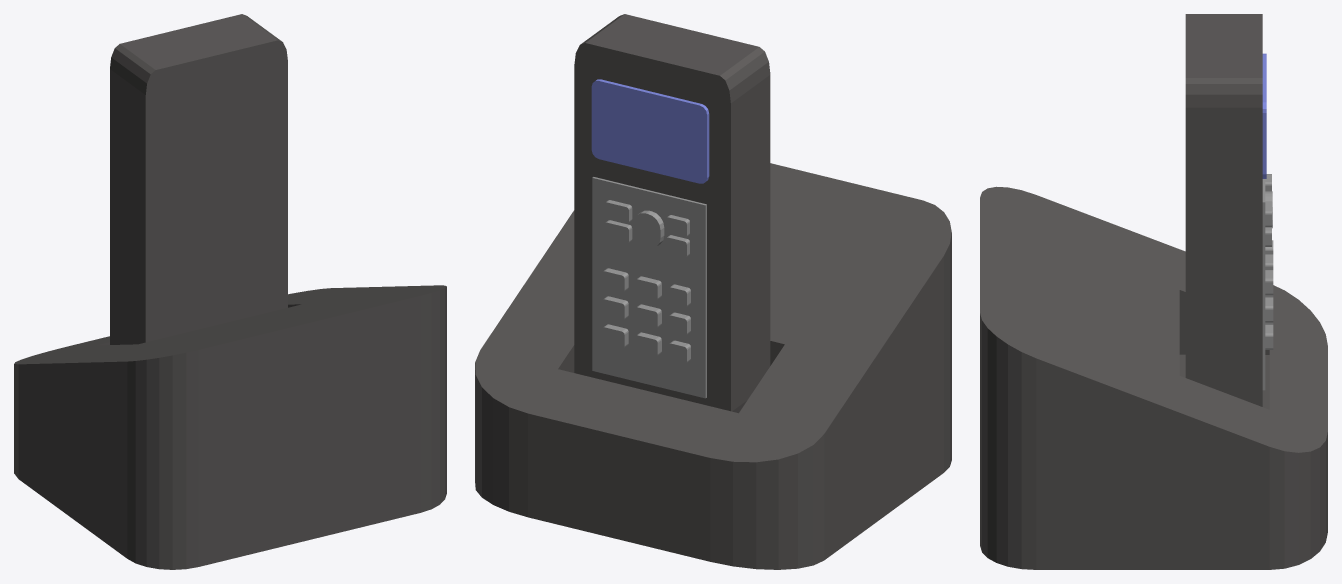
File: Telefono.fbx
3 renders of one model, left to right at view 1: azimuth 30°, elevation 25°; view 2: azimuth 150°, elevation 25°; view 3: azimuth 270°, elevation 25°, orthographic. The views are drawn at different scales.
Visible parts, largest first — view 1: TelefonoBase.002, Telefono.002; view 2: TelefonoBase.002, Telefono.002; view 3: TelefonoBase.002, Telefono.002.
Part boxes in pixels (<box>): TelefonoBase.002: <box>14,285,446,569</box>; Telefono.002: <box>110,14,287,344</box>; TelefonoBase.002: <box>475,163,951,569</box>; Telefono.002: <box>574,14,770,413</box>; TelefonoBase.002: <box>980,186,1327,569</box>; Telefono.002: <box>1185,14,1273,406</box>.
Size of the model in its own units: 25.14 by 31.83 by 22.6.
